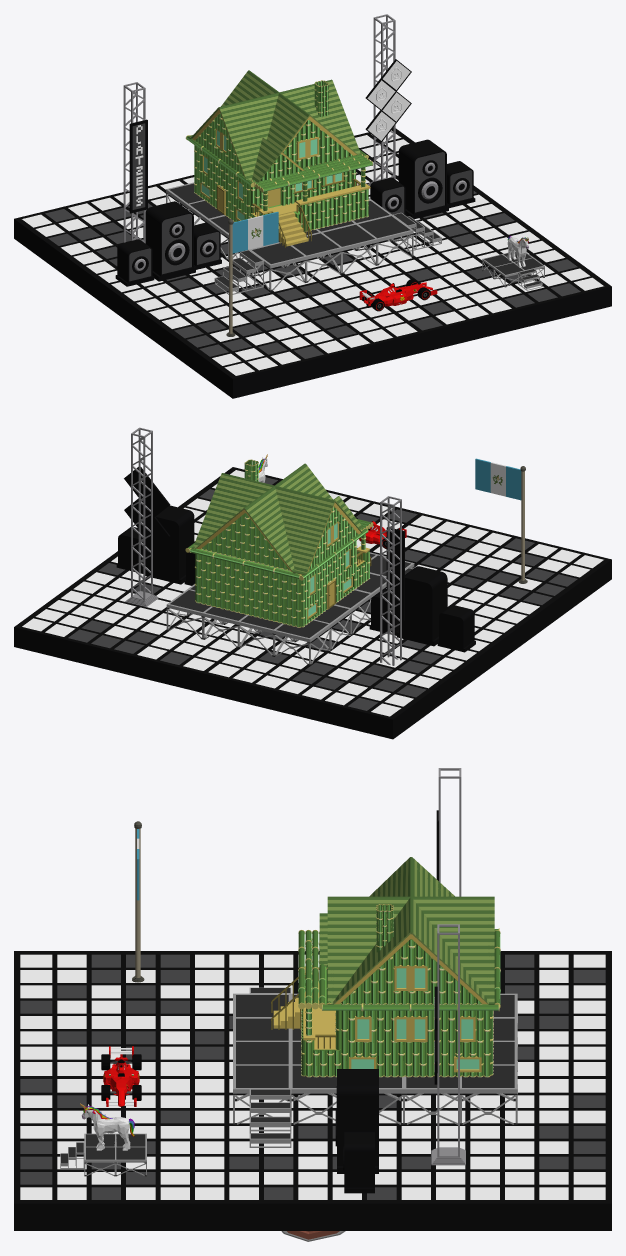
The picture shows the model from 3 angles, top to bottom: view 1: azimuth 30°, elevation 25°; view 2: azimuth 150°, elevation 25°; view 3: azimuth 270°, elevation 25°; orthographic projection. The views are drawn at different scales.
Parts seen in each view (by area): view 1: Cube.008, Cube.1327, OBJRANDOM_GUATEMALAN_FLAG, VEHICLES_FORMULA_1; view 2: Cube.008, Cube.1327, OBJRANDOM_GUATEMALAN_FLAG; view 3: Cube.008, Cube.1327, VEHICLES_FORMULA_1, ANIMAL_UNICORNIO, OBJRANDOM_GUATEMALAN_FLAG.
Part boxes in pixels (x1=…): Cube.008: x1=14, y1=14, x2=611, y2=398; Cube.1327: x1=185, y1=70, x2=373, y2=247; OBJRANDOM_GUATEMALAN_FLAG: x1=226, y1=211, x2=278, y2=336; VEHICLES_FORMULA_1: x1=359, y1=279, x2=437, y2=311; Cube.008: x1=14, y1=427, x2=611, y2=739; Cube.1327: x1=185, y1=459, x2=373, y2=627; OBJRANDOM_GUATEMALAN_FLAG: x1=475, y1=458, x2=527, y2=583; Cube.008: x1=14, y1=768, x2=611, y2=1230; Cube.1327: x1=271, y1=857, x2=500, y2=1077; VEHICLES_FORMULA_1: x1=101, y1=1046, x2=141, y2=1106; ANIMAL_UNICORNIO: x1=80, y1=1103, x2=134, y2=1150; OBJRANDOM_GUATEMALAN_FLAG: x1=132, y1=821, x2=144, y2=982.
Size of the model in its own units: 4000 by 2688 by 4000.
Materials: 51 (2 with a texture image).
